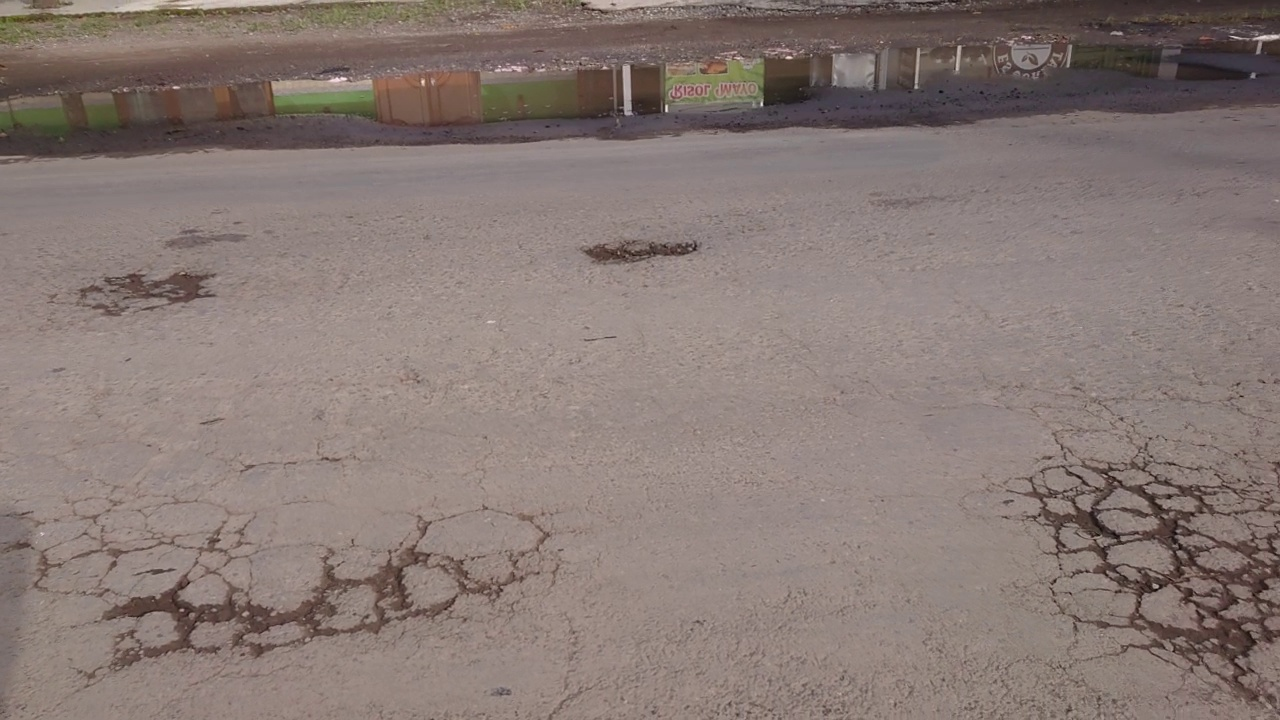Retak: (24, 518, 560, 664), (1018, 462, 1280, 720), (70, 252, 239, 319), (576, 228, 718, 271)
